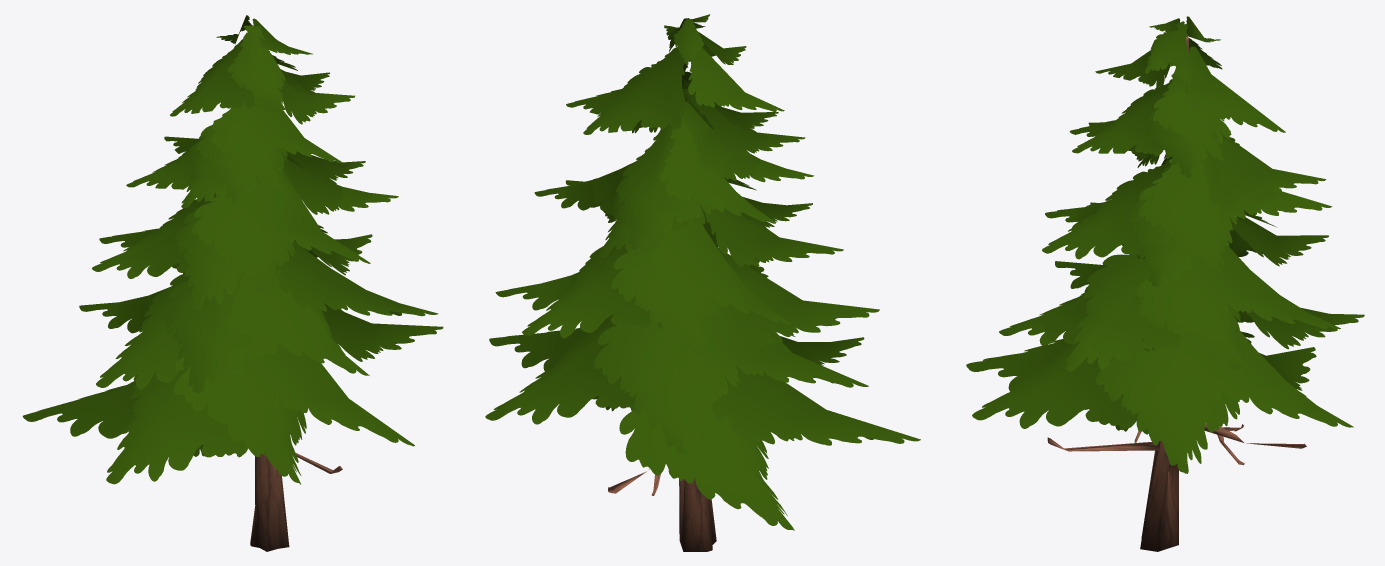
Rendered from Pine_2@lod.gltf.
3 views of the same model, side by side, from view 1: azimuth 30°, elevation 25°; view 2: azimuth 150°, elevation 25°; view 3: azimuth 270°, elevation 25° (orthographic). The views are drawn at different scales.
Parts seen in each view (by area): view 1: Pine_2; view 2: Pine_2; view 3: Pine_2.
Part boxes in pixels (x1,y1,x2,y2): Pine_2: [22, 15, 443, 551]; Pine_2: [485, 14, 920, 551]; Pine_2: [966, 16, 1364, 551].
Size of the model in its own units: 5.73 by 7.34 by 5.22.
2 materials, 2 textured.
